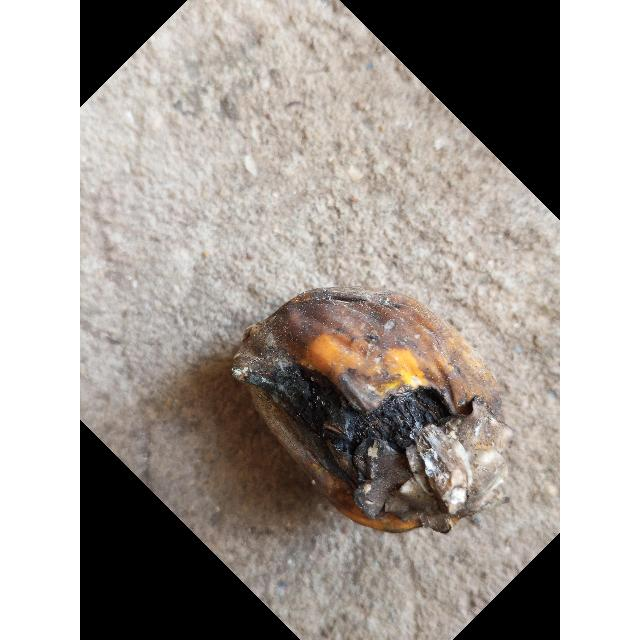damaged: (228, 284, 511, 539)
